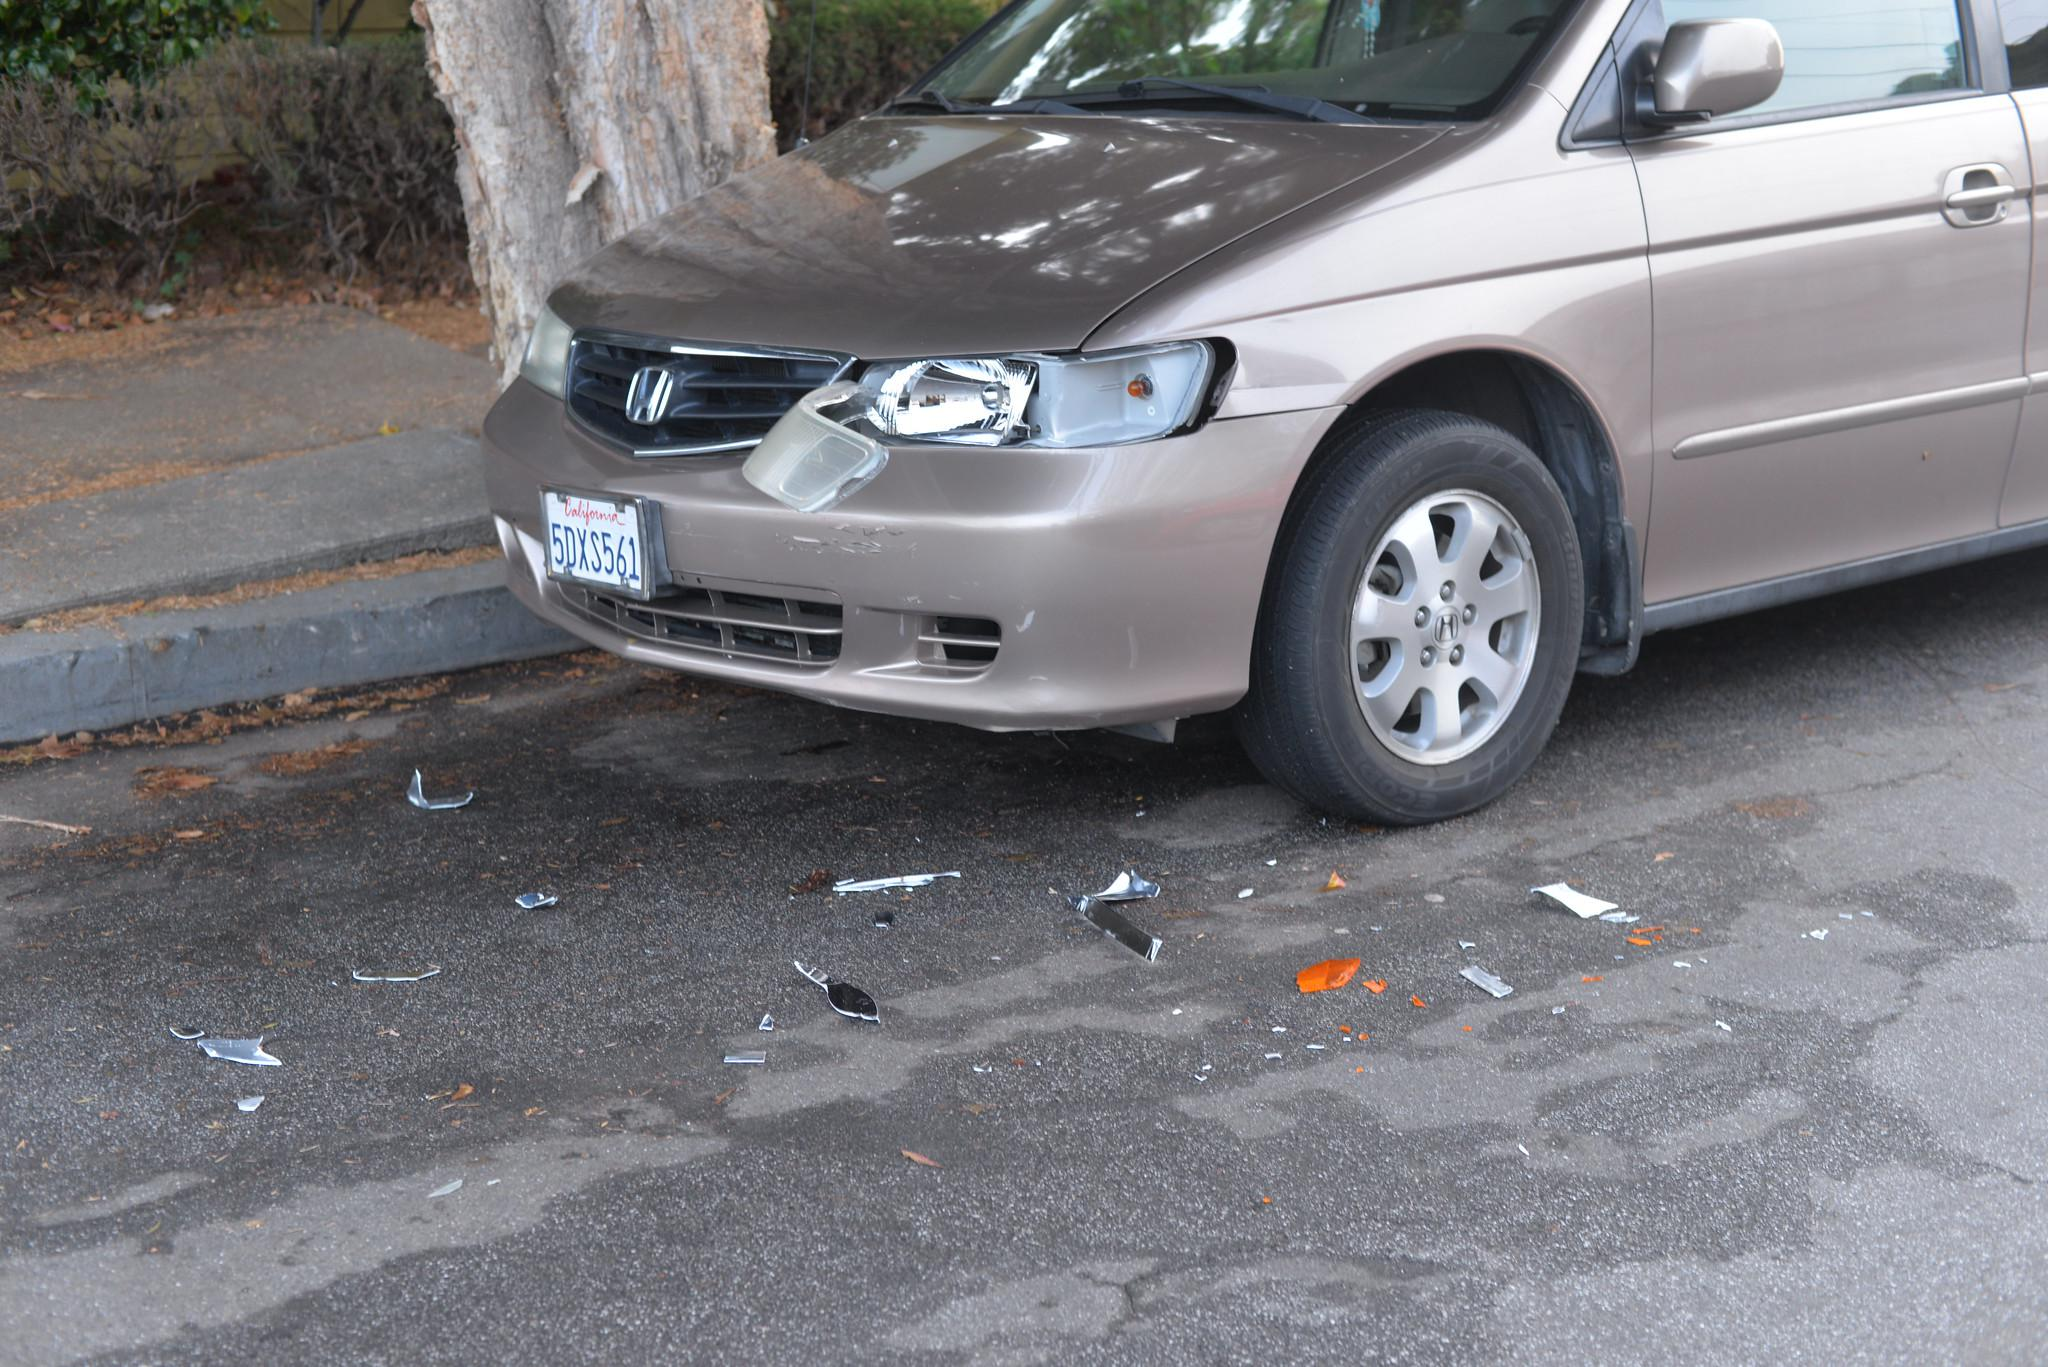Headlight-Damage: (798, 330, 1305, 461)
